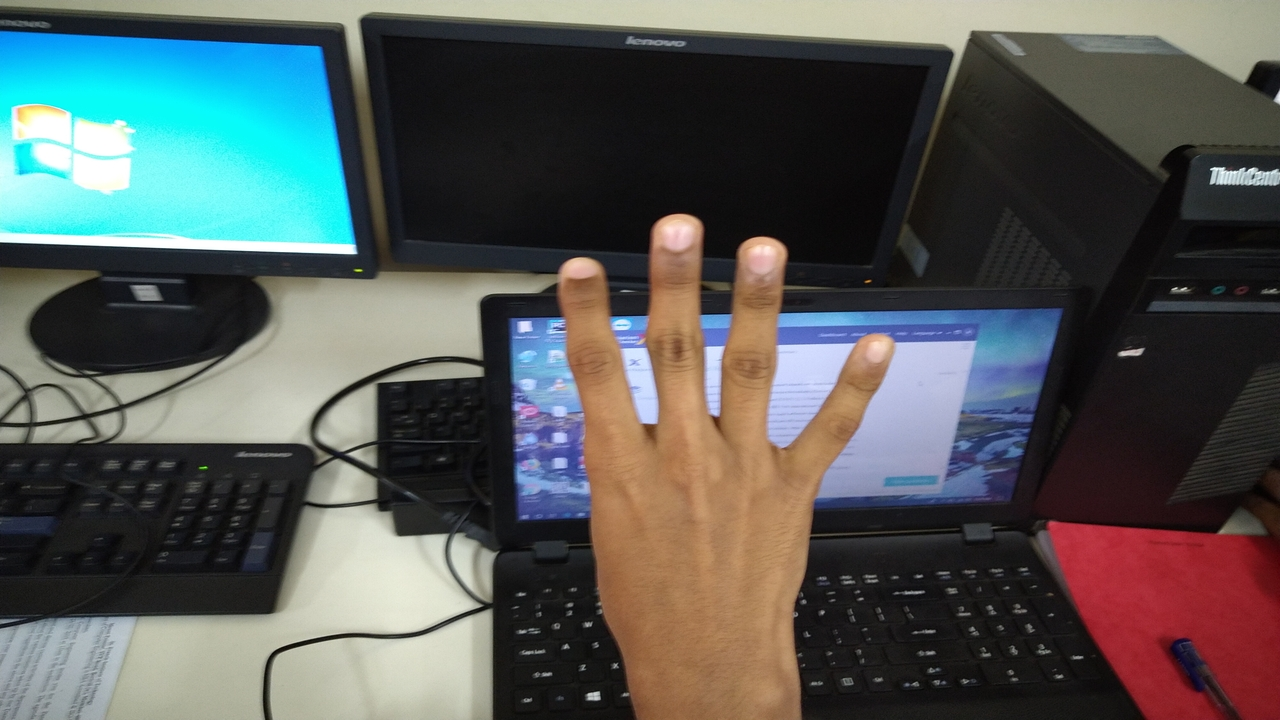fingertip: (840, 322, 906, 382), (550, 248, 612, 308), (646, 208, 708, 266), (730, 232, 792, 286)
